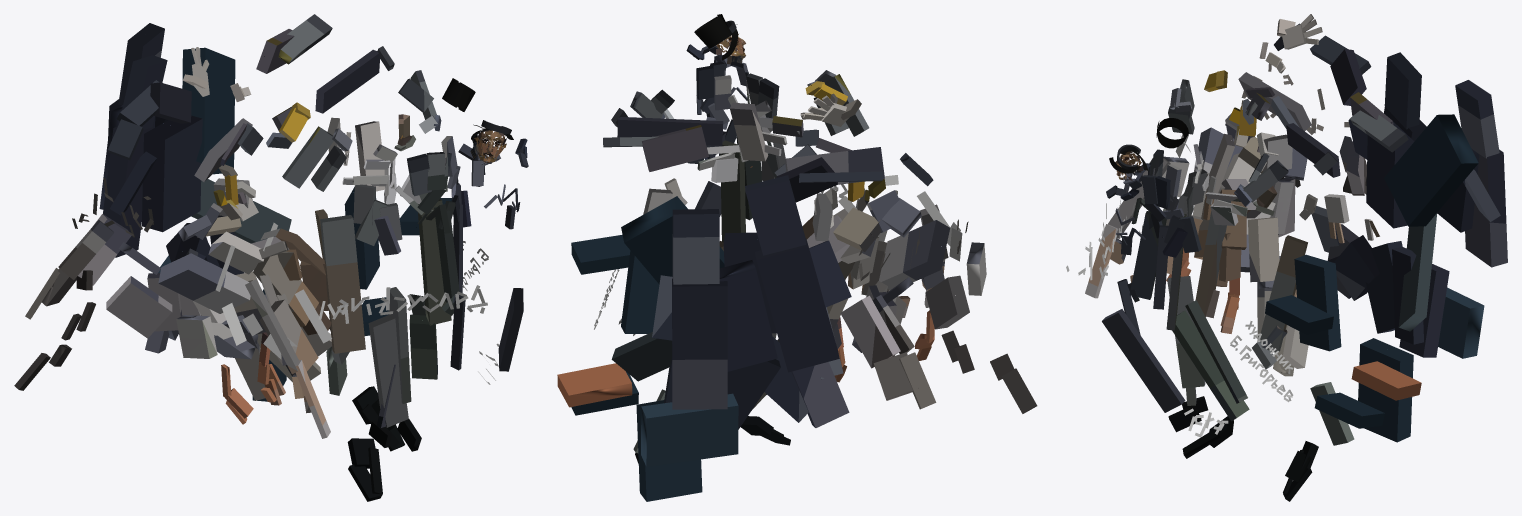
The picture shows the model from 3 angles, left to right: view 1: azimuth 30°, elevation 25°; view 2: azimuth 150°, elevation 25°; view 3: azimuth 270°, elevation 25°; orthographic projection. The views are drawn at different scales.
Visible parts, largest first — view 1: brush_SquarePaper_g1_b0, brush_SquarePaper_g0_b0.003, brush_Flat_g0_b0, brush_Flat_g1_b0.002, brush_Flat_g4_b0, brush_Flat_g2_b0; view 2: brush_SquarePaper_g1_b0, brush_SquarePaper_g0_b0.003, brush_Flat_g1_b0.002, brush_Flat_g0_b0; view 3: brush_SquarePaper_g1_b0, brush_SquarePaper_g0_b0.003, brush_Flat_g1_b0.002, brush_Flat_g0_b0, brush_Flat_g4_b0.
Part boxes in pixels (bbox=[...]): brush_SquarePaper_g1_b0: bbox=[14, 14, 528, 501]; brush_SquarePaper_g0_b0.003: bbox=[158, 47, 451, 401]; brush_Flat_g0_b0: bbox=[215, 222, 488, 359]; brush_Flat_g1_b0.002: bbox=[400, 78, 513, 162]; brush_Flat_g4_b0: bbox=[318, 285, 487, 323]; brush_Flat_g2_b0: bbox=[72, 177, 153, 237]; brush_SquarePaper_g1_b0: bbox=[603, 20, 1037, 463]; brush_SquarePaper_g0_b0.003: bbox=[557, 196, 738, 501]; brush_Flat_g1_b0.002: bbox=[694, 14, 752, 167]; brush_Flat_g0_b0: bbox=[594, 175, 962, 329]; brush_SquarePaper_g1_b0: bbox=[1085, 14, 1507, 501]; brush_SquarePaper_g0_b0.003: bbox=[1265, 114, 1484, 442]; brush_Flat_g1_b0.002: bbox=[1109, 118, 1379, 237]; brush_Flat_g0_b0: bbox=[1175, 134, 1293, 402]; brush_Flat_g4_b0: bbox=[1066, 200, 1142, 280].
Bounding box in the file's own units: 1.38 × 1.27 × 1.27.
